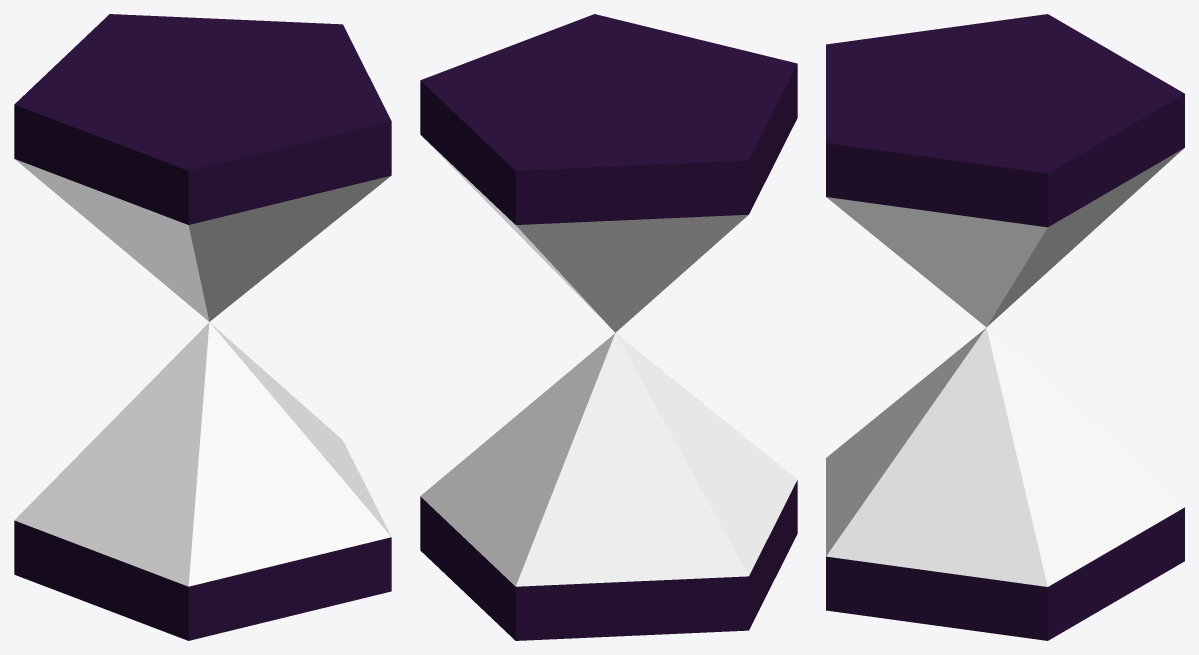
File: TimeCrystal.glb
The picture shows the model from 3 angles, left to right: view 1: azimuth 30°, elevation 25°; view 2: azimuth 150°, elevation 25°; view 3: azimuth 270°, elevation 25°; orthographic projection.
Parts seen in each view (by area): view 1: Cone; view 2: Cone; view 3: Cone.
Part boxes in pixels (left/top/right/bottom): Cone: left=14, top=14, right=391, bottom=640; Cone: left=420, top=14, right=797, bottom=640; Cone: left=826, top=14, right=1184, bottom=640.
Bounding box in the file's own units: 1.9 × 2.6 × 1.81.
